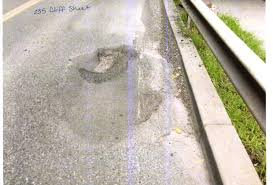pothole: (145, 3, 178, 90), (77, 45, 136, 89), (140, 91, 161, 121)
